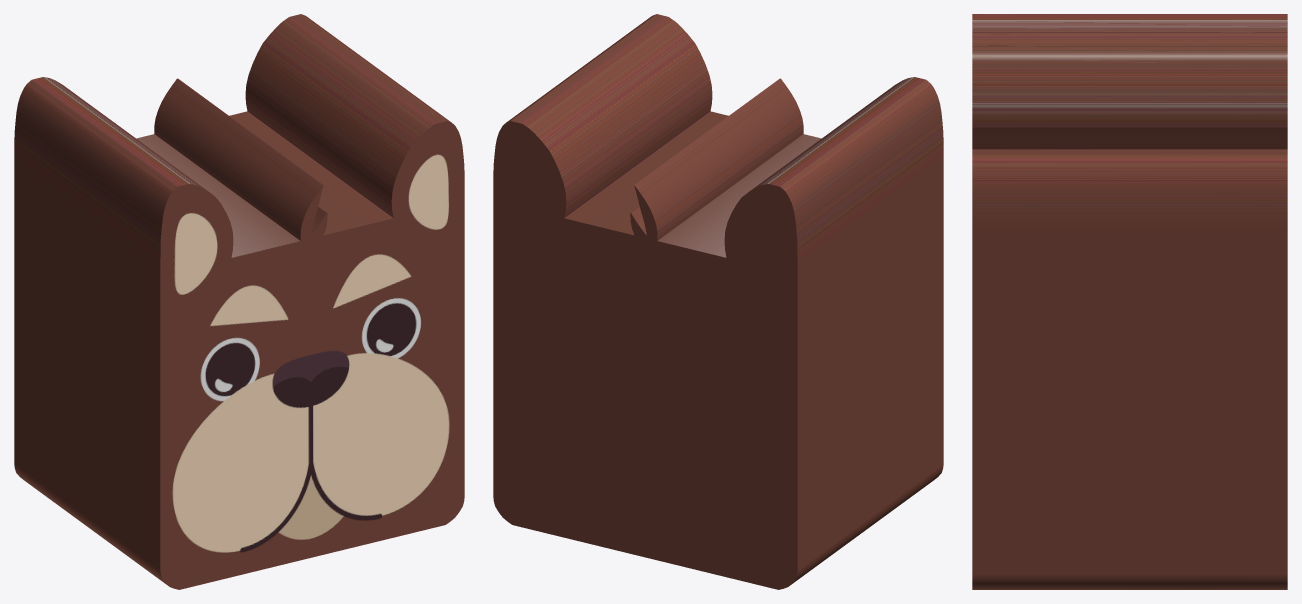
Rendered from Dog.obj.
3 views of the same model, side by side, from view 1: azimuth 30°, elevation 25°; view 2: azimuth 150°, elevation 25°; view 3: azimuth 270°, elevation 25° (orthographic). The views are drawn at different scales.
Parts seen in each view (by area): view 1: Dog; view 2: Dog; view 3: Dog.
Part boxes in pixels (left/top/right/bottom): Dog: left=14, top=14, right=464, bottom=589; Dog: left=493, top=14, right=943, bottom=589; Dog: left=972, top=14, right=1287, bottom=589.
Size of the model in its own units: 5.36 by 6.79 by 4.46.
